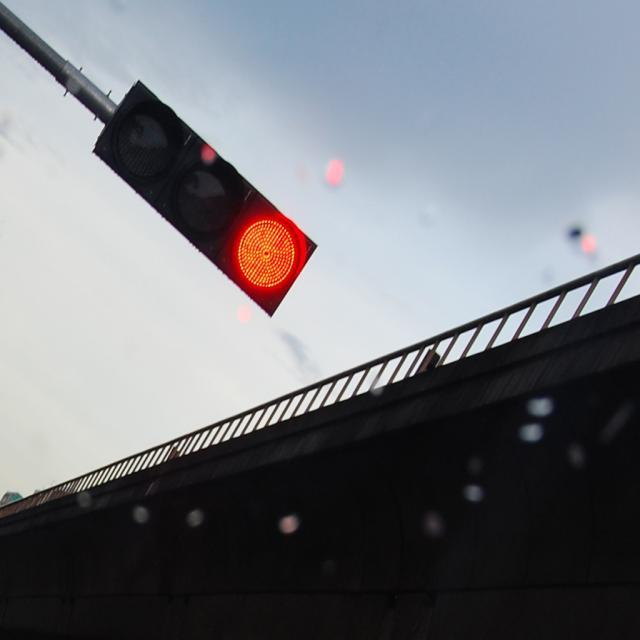traffic light: (94, 81, 315, 315)
